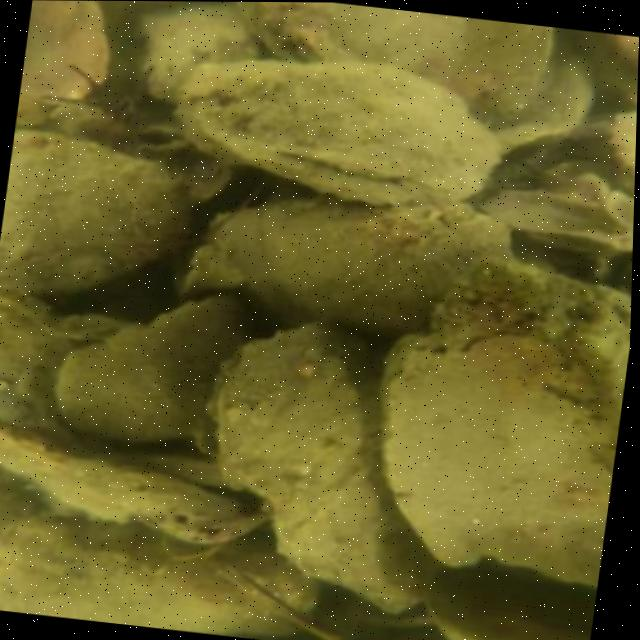Oyster-Closed: (173, 55, 502, 214)
Oyster-Indeterminate: (382, 316, 619, 598), (216, 323, 438, 619), (211, 198, 521, 336), (0, 510, 320, 640), (238, 2, 564, 124), (0, 417, 272, 549), (0, 130, 197, 297), (56, 288, 257, 442), (428, 258, 631, 400), (137, 1, 260, 105), (422, 573, 590, 640), (20, 0, 113, 107), (611, 107, 637, 189)
